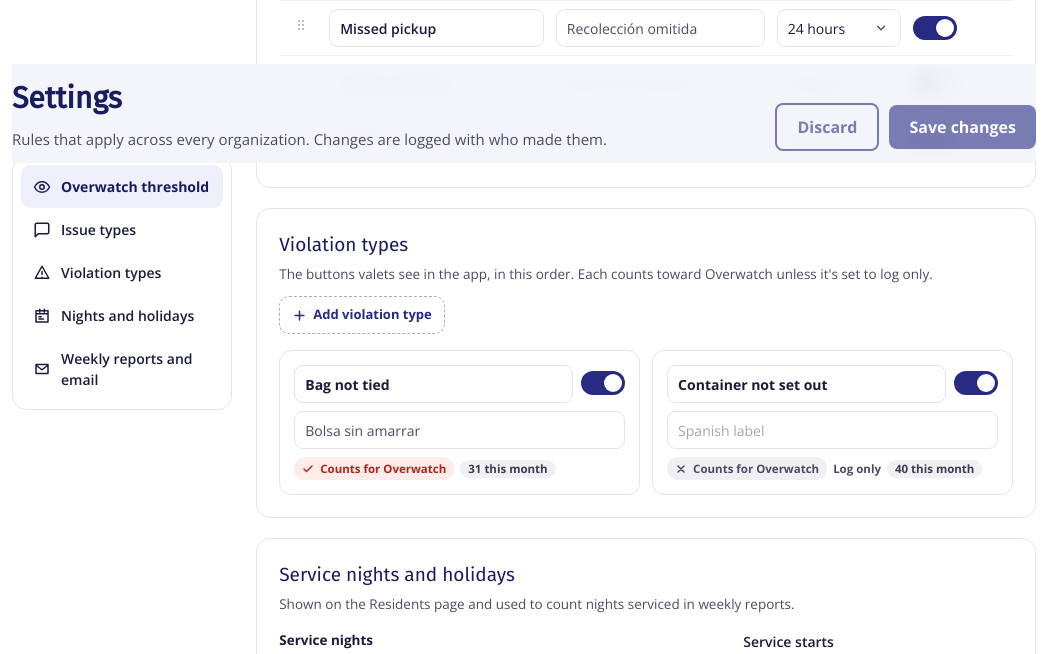
Test: SettingsPage › puts the API's row errors on the right row
(page scrolled)
Type "!" into the 2nd field named "Violation label" at x=807, y=384, box [667,365,946,403]
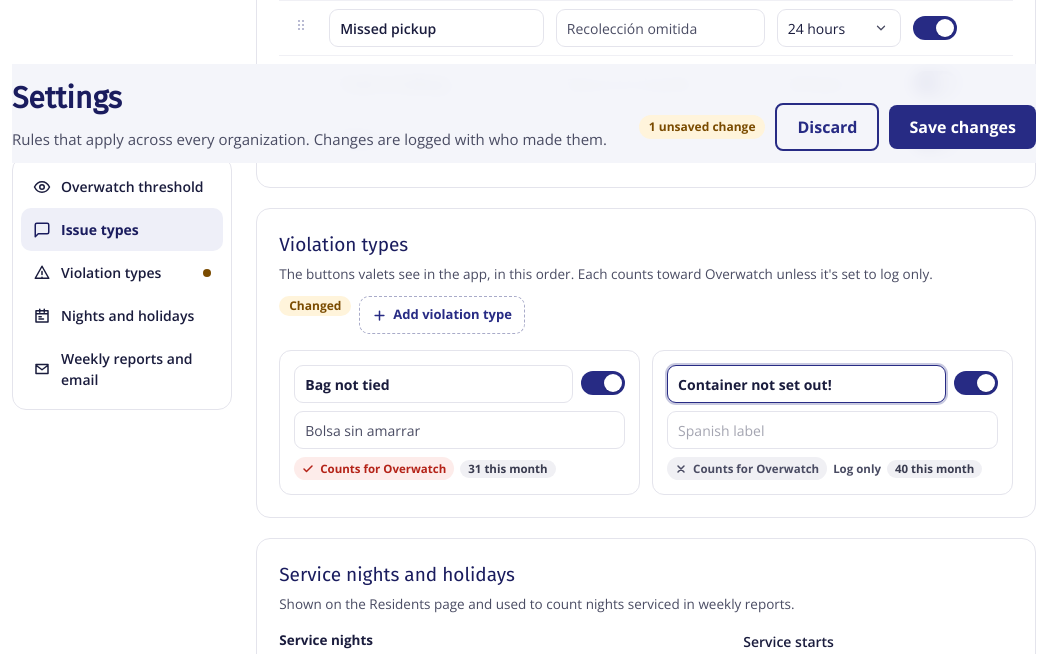
Click the button "Save changes" at x=963, y=127, box [889,105,1036,149]
(page scrolled)
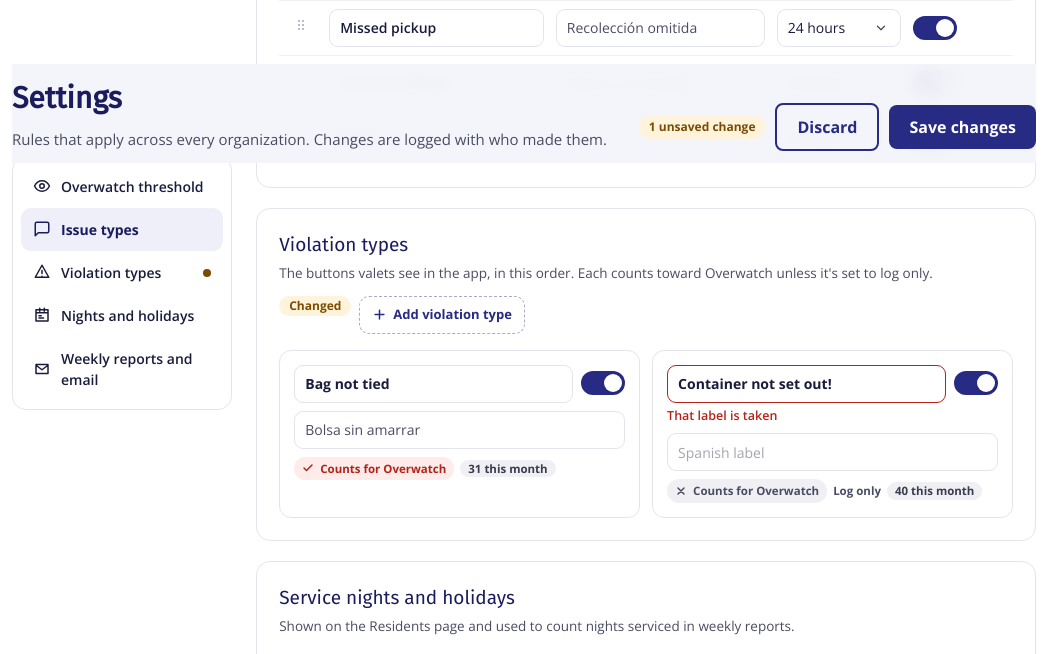
Now the text "That label is taken" is shown, box [667,407,777,424]
